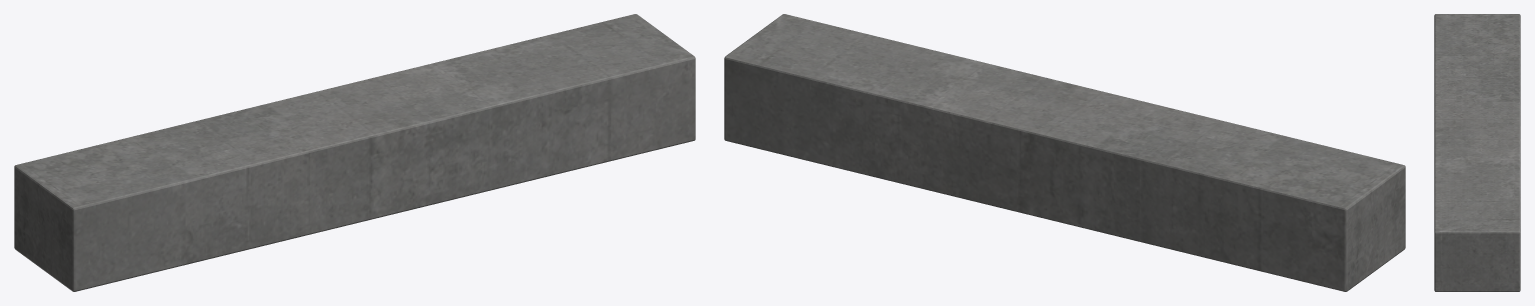
File: SM_GarageConcrete_FrameTop.fbx
3 views of the same model, side by side, from view 1: azimuth 30°, elevation 25°; view 2: azimuth 150°, elevation 25°; view 3: azimuth 270°, elevation 25° (orthographic). The views are drawn at different scales.
Parts seen in each view (by area): view 1: SM_GarageConcrete_FrameTop; view 2: SM_GarageConcrete_FrameTop; view 3: SM_GarageConcrete_FrameTop.
Boxes of the visible parts, x1,y1,x2,y2 form: SM_GarageConcrete_FrameTop: (14,14,695,291); SM_GarageConcrete_FrameTop: (724,14,1405,291); SM_GarageConcrete_FrameTop: (1434,14,1520,291).
Bounding box in the file's own units: 270 × 45 × 35.
